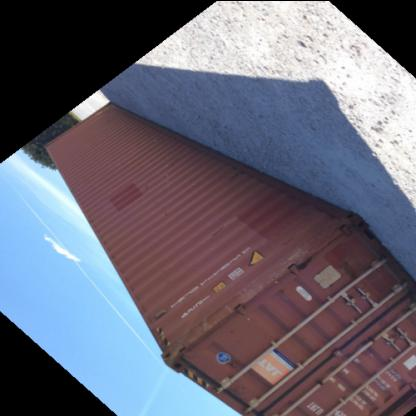Damage: (164, 302, 216, 368), (269, 224, 329, 278), (216, 264, 270, 322), (360, 264, 396, 300)
